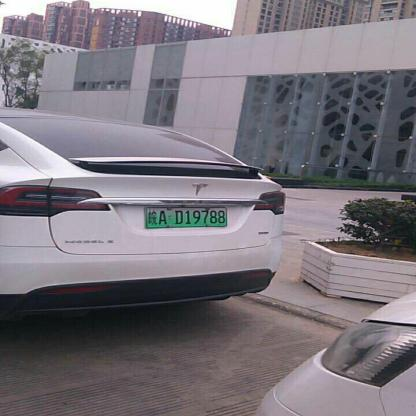lp: (146, 206, 226, 226)
